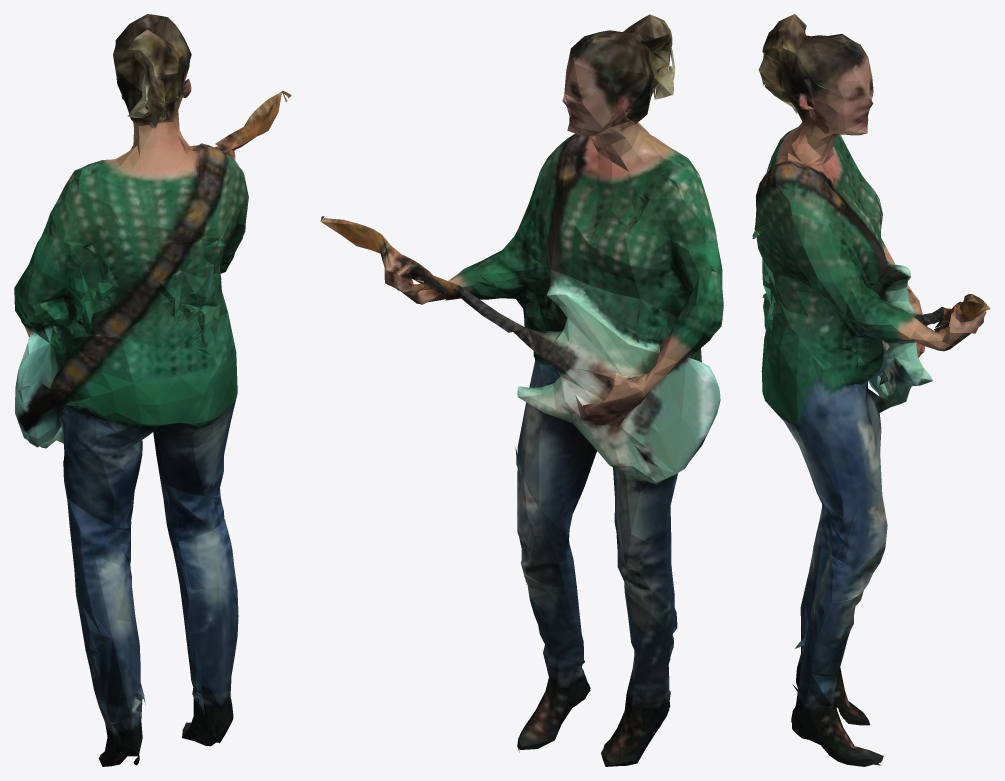
3 views of the same model, side by side, from view 1: azimuth 30°, elevation 25°; view 2: azimuth 150°, elevation 25°; view 3: azimuth 270°, elevation 25° (orthographic). The views are drawn at different scales.
Parts seen in each view (by area): view 1: dec_0000; view 2: dec_0000; view 3: dec_0000.
Part boxes in pixels (box(x1,y1,x2,y2)): dec_0000: box(14, 14, 291, 766); dec_0000: box(320, 14, 723, 766); dec_0000: box(752, 14, 990, 766).
Size of the model in its own units: 0.8228 by 1.73 by 0.5255.
1 material, 1 textured.
